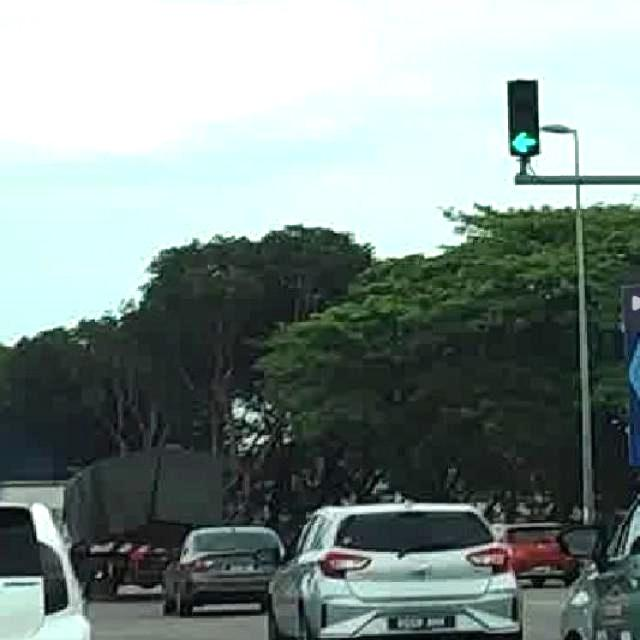Green: (506, 79, 540, 156)
